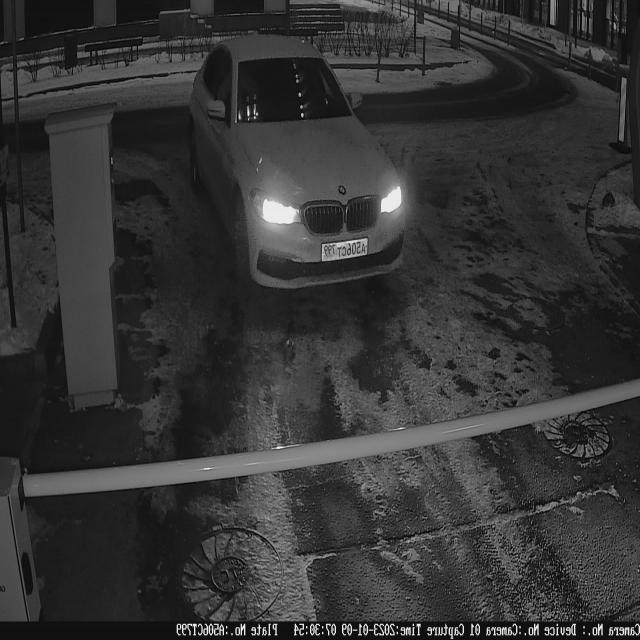car-plate-numbers: (318, 229, 373, 268)
